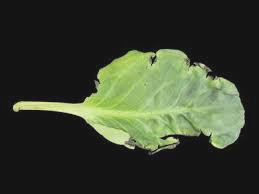Bok-Choy-Diseased: (46, 38, 248, 162)
